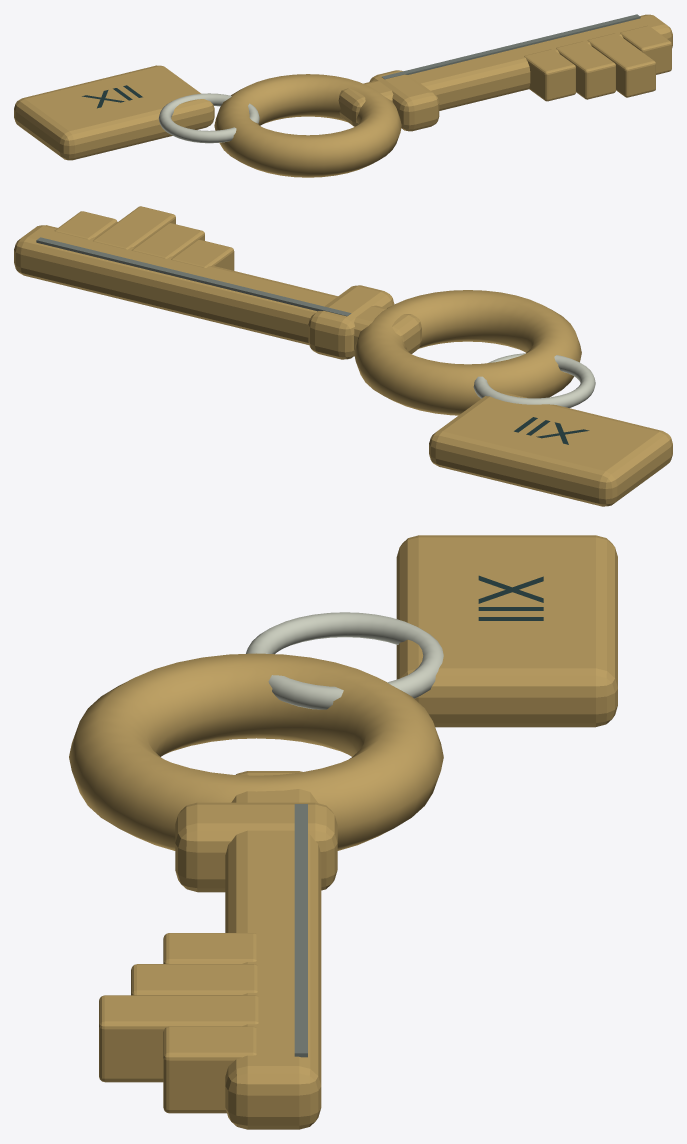
File: classroom_key.glb
The picture shows the model from 3 angles, top to bottom: view 1: azimuth 30°, elevation 25°; view 2: azimuth 150°, elevation 25°; view 3: azimuth 270°, elevation 25°; orthographic projection. The views are drawn at different scales.
Parts seen in each view (by area): view 1: classroom_key; view 2: classroom_key; view 3: classroom_key.
Boxes of the visible parts, left/top/right/bottom form: classroom_key: left=14, top=14, right=672, bottom=177; classroom_key: left=14, top=206, right=672, bottom=506; classroom_key: left=69, top=535, right=617, bottom=1129.
Bounding box in the file's own units: 0.074 × 0.00462 × 0.0309.
